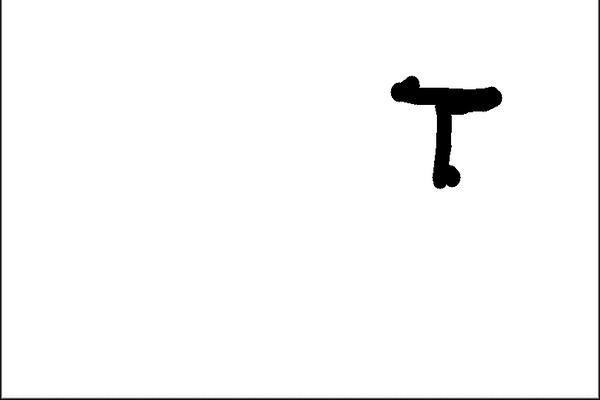T: (381, 67, 521, 191)
